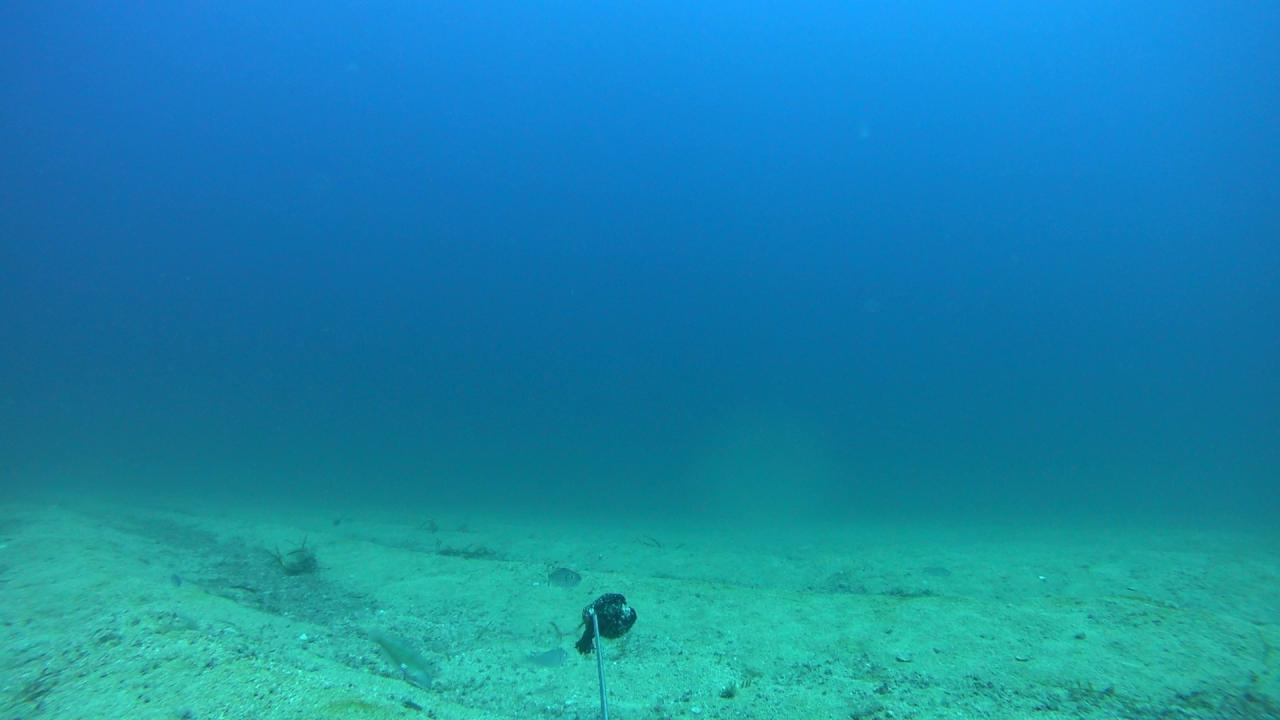pagellus: (516, 646, 568, 668), (544, 567, 578, 588)
raor: (364, 620, 436, 693)
